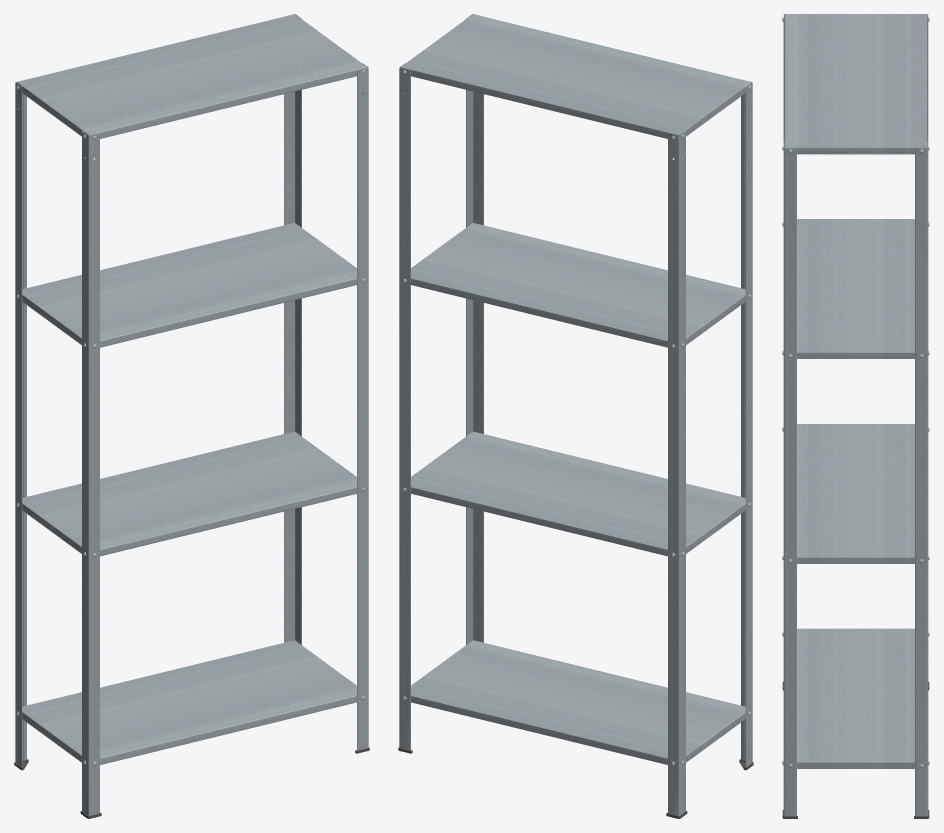
File: 03 - HYLLIS Shelving unit - inoutdoor 60x27x140 cm.glb
3 views of the same model, side by side, from view 1: azimuth 30°, elevation 25°; view 2: azimuth 150°, elevation 25°; view 3: azimuth 270°, elevation 25° (orthographic).
Parts seen in each view (by area): view 1: model; view 2: model; view 3: model.
Boxes of the visible parts, x1,y1,x2,y2 form: model: [14, 14, 369, 818]; model: [398, 14, 753, 818]; model: [782, 14, 929, 818].
Bounding box in the file's own units: 0.6067 × 1.4 × 0.2787.
1 material, 1 textured.
